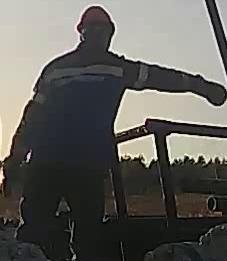gloves: (186, 74, 227, 107)
helmet: (76, 5, 116, 34)
vest: (40, 54, 145, 167)
